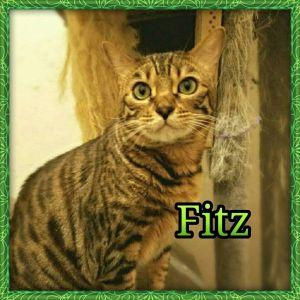bengal: (97, 26, 237, 148)
